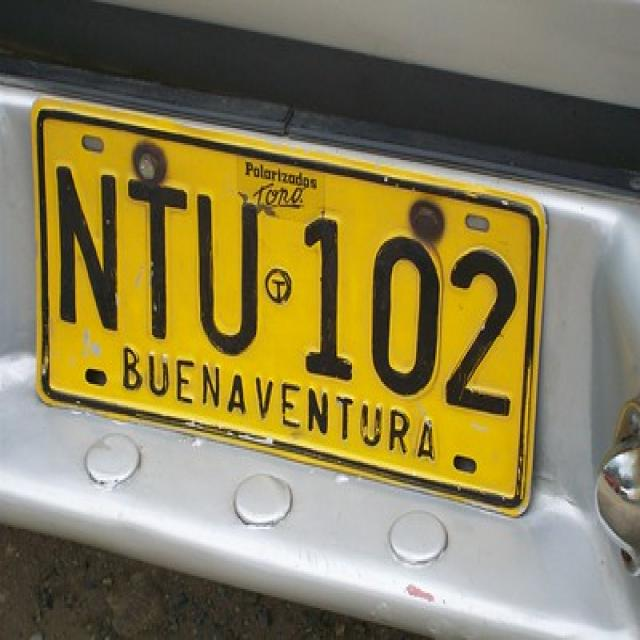placa_carro: (23, 70, 578, 566)
